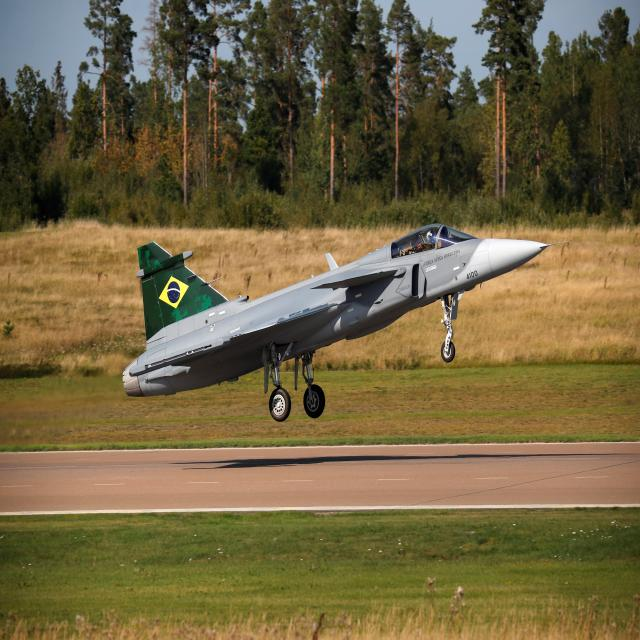MIL_Plane: (122, 223, 572, 422)
